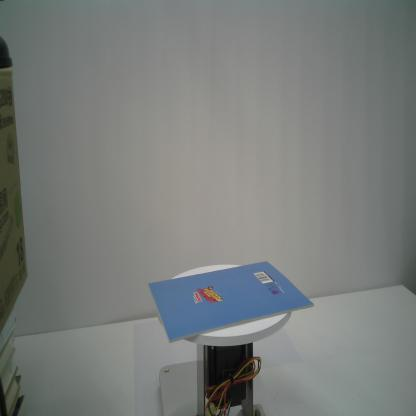Stationery: (147, 260, 315, 345)
